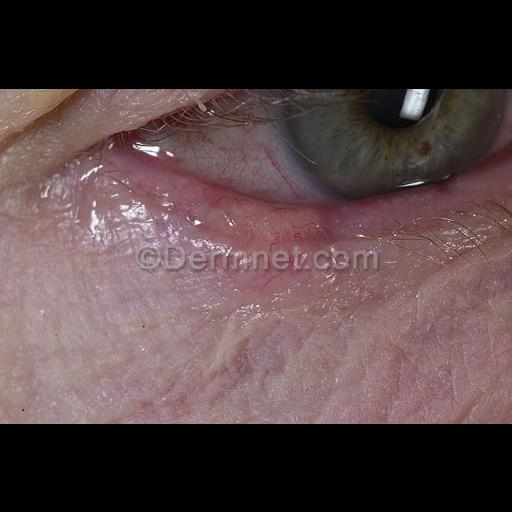Skin_Lesion: (214, 334, 270, 384)
